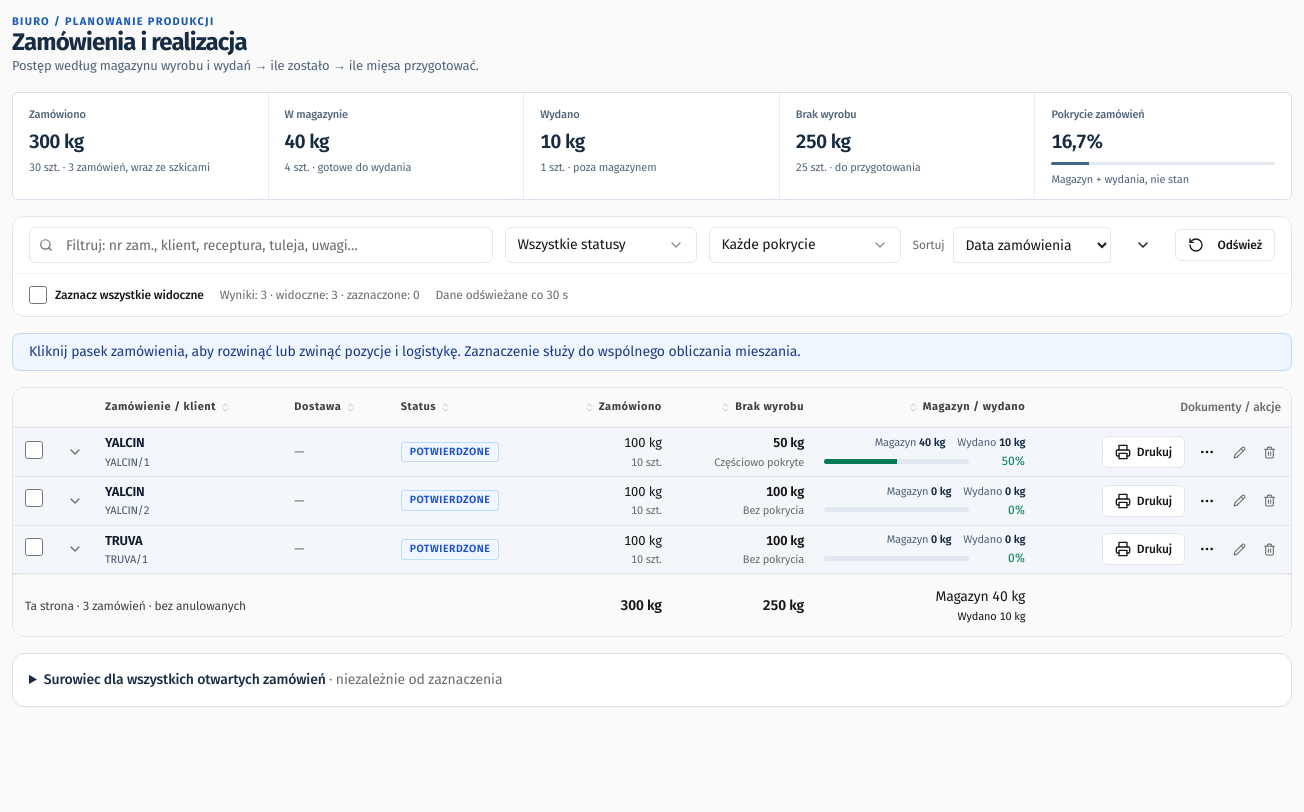
Test: ClientOrdersPage — zaznaczanie i planowanie › filtr i sortowanie nie gubią zaznaczeń; wszystkie widoczne nie usuwa ukrytych
The width and height of the screenshot is (1304, 812).
Click the checkbox named "Zaznacz YALCIN/1".
click(34, 450)  # box [25, 440, 43, 458]
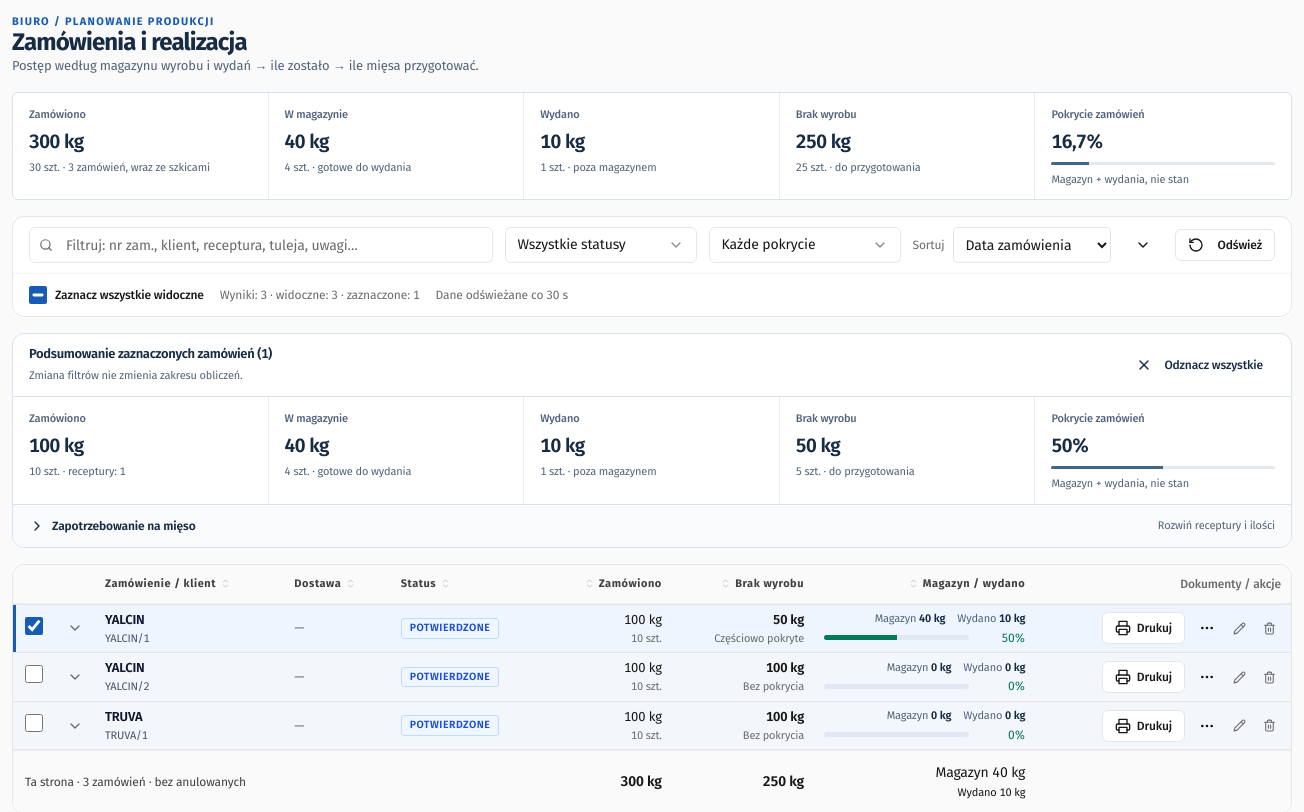
Type "TRUVA" into the field named "Szukaj zamówień".
click(261, 245); type("TRUVA")  # box [29, 227, 493, 263]
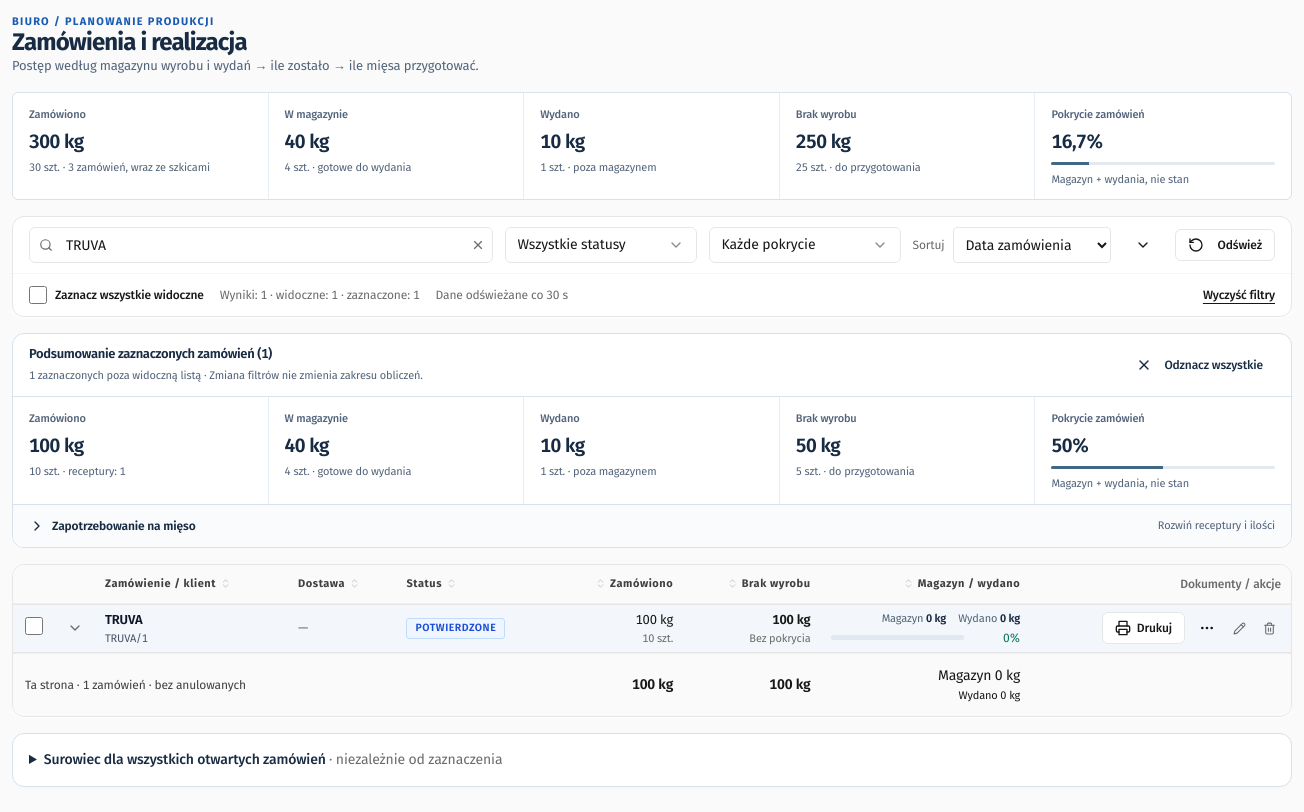
Now the element "Podsumowanie zaznaczonych zamówień" shows "1 zaznaczonych poza widoczną listą", box [29, 369, 209, 382]
Click the checkbox labelled "Zaznacz wszystkie widoczne".
click(38, 295)  # box [29, 286, 47, 304]
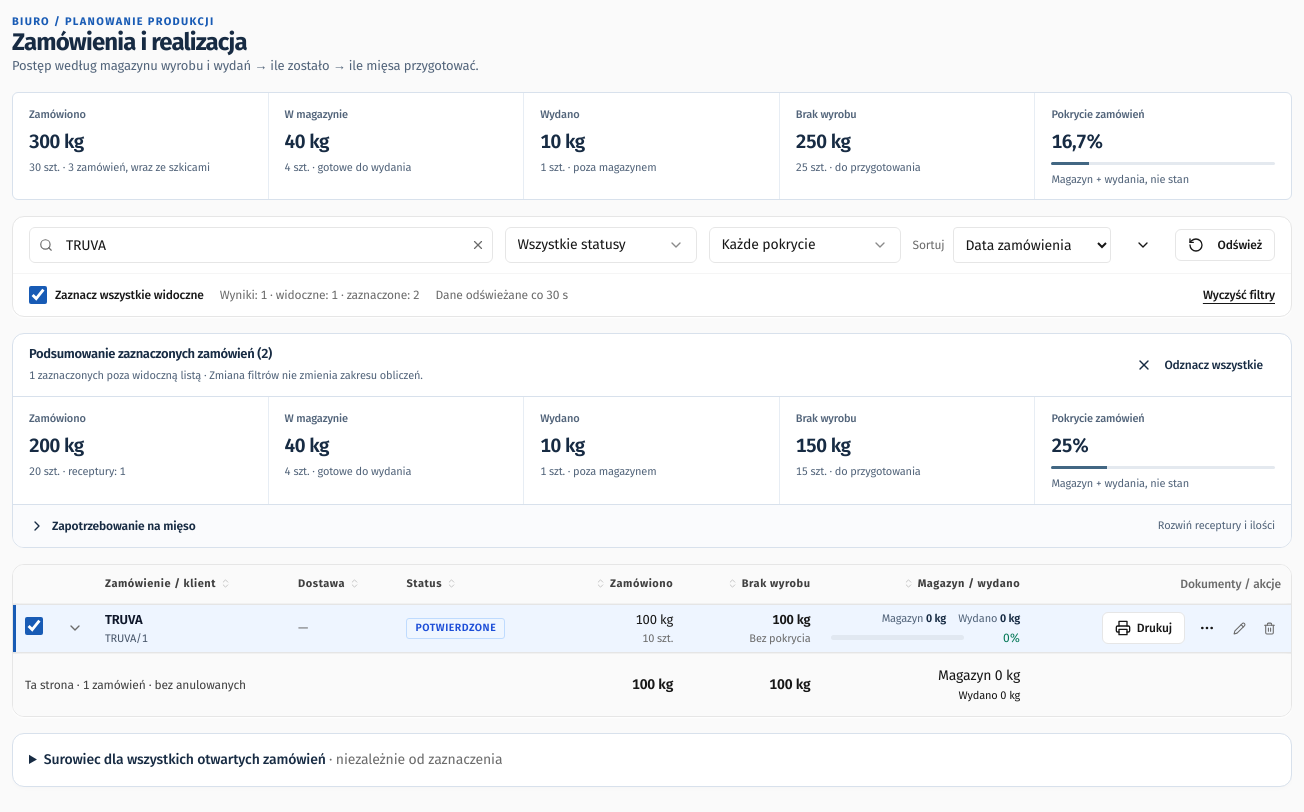
Now the element "Podsumowanie zaznaczonych zamówień" shows "(2)", box [12, 333, 1292, 548]
Select "Klient" in the dropdown named "Sortowanie zamówień" at (1032, 245), box [953, 227, 1111, 263]
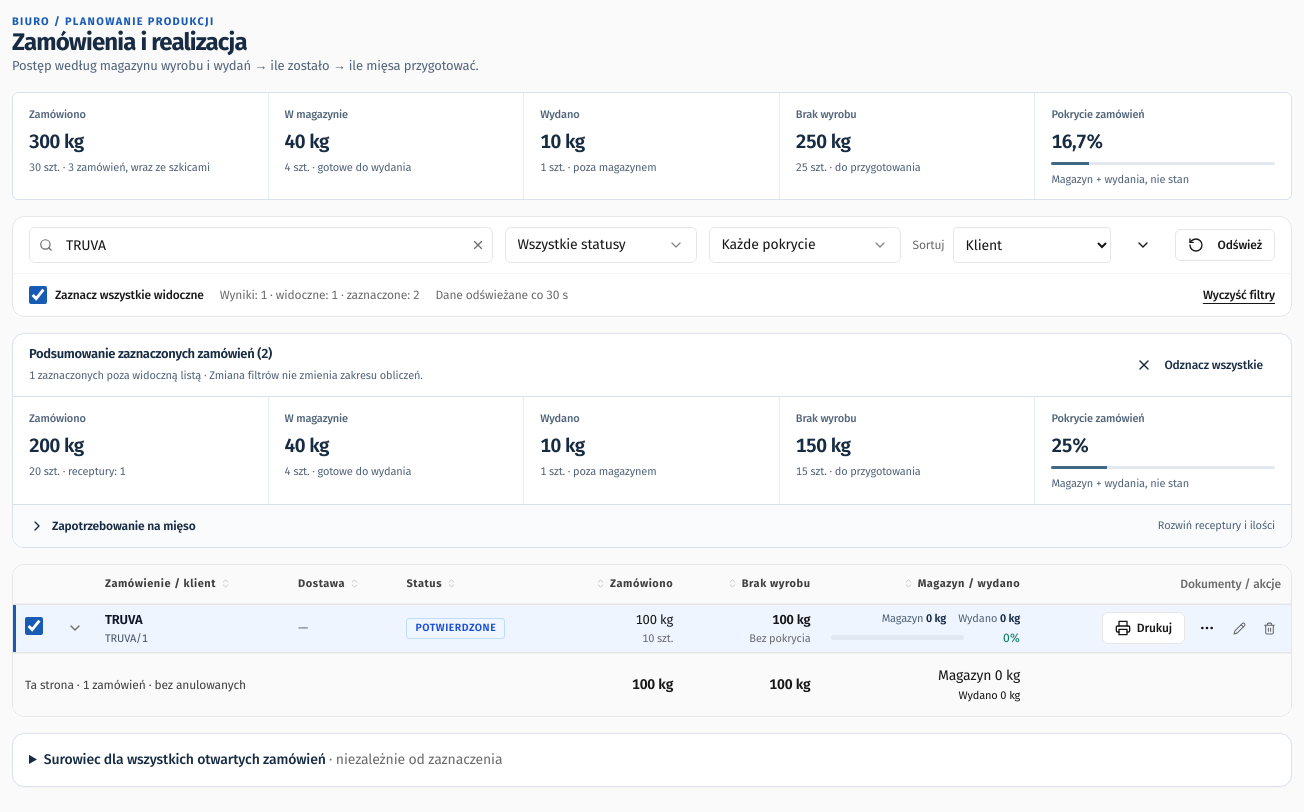
Click the button "Wyczyść filtry".
click(1239, 295)  # box [1203, 287, 1275, 303]
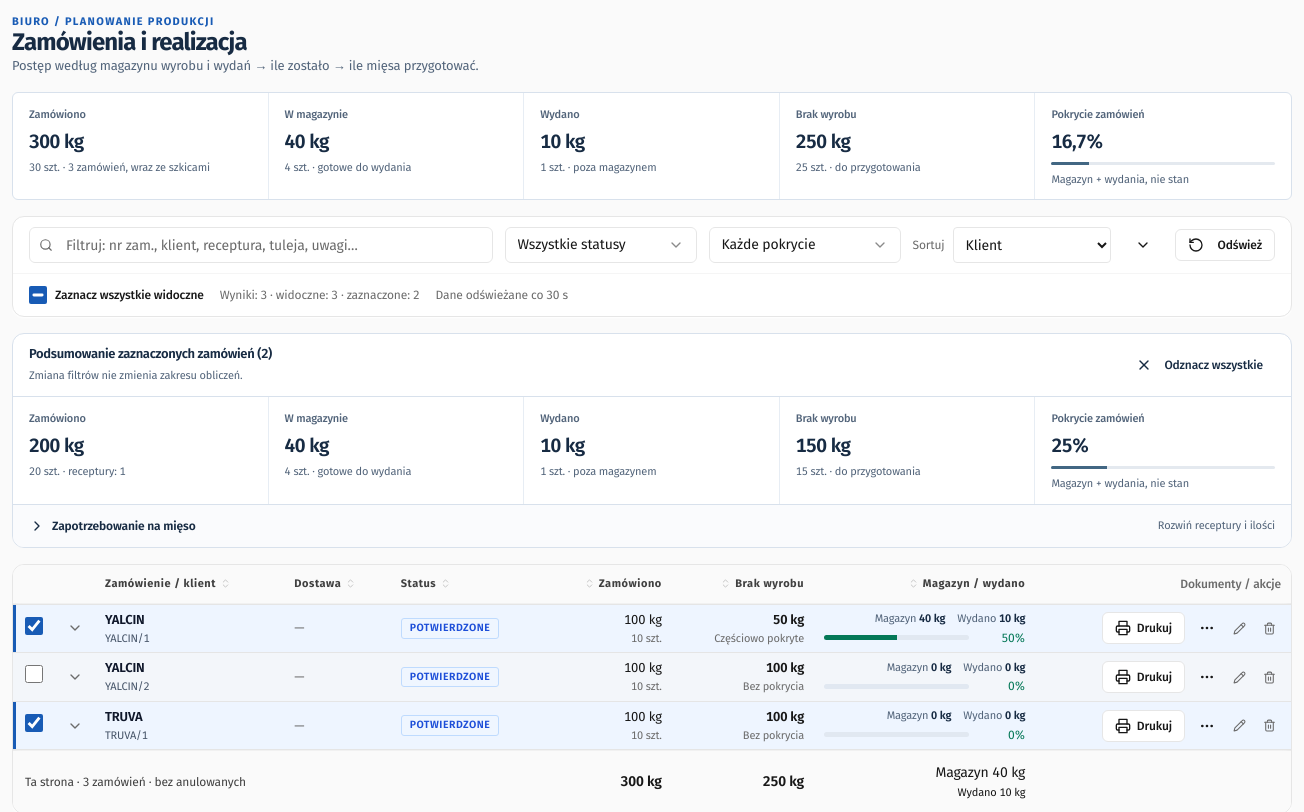
Expected: the checkbox named "Zaznacz YALCIN/1" is checked, [25, 617, 43, 635]
Now the checkbox named "Zaznacz TRUVA/1" is checked, box [25, 714, 43, 732]
Click the button "Odznacz wszystkie".
click(1200, 365)  # box [1124, 349, 1275, 381]
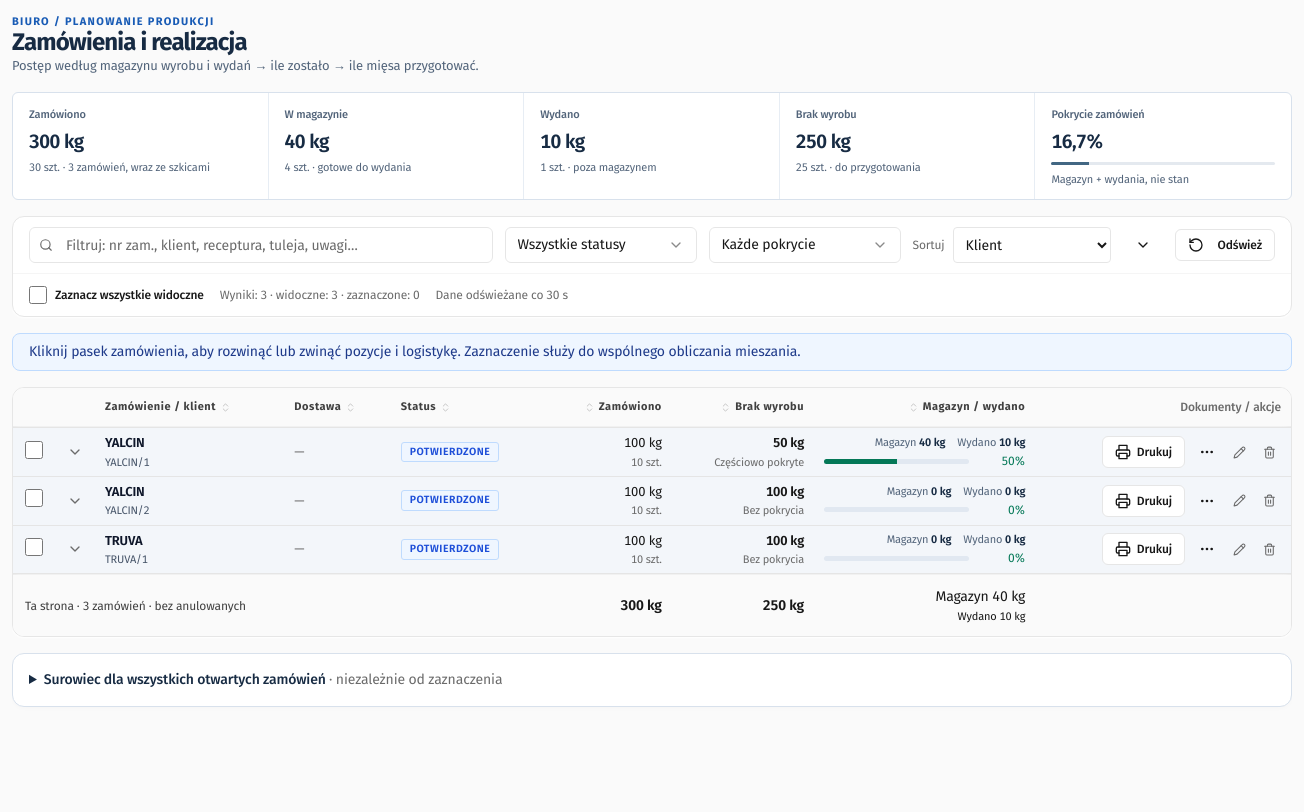
Now the heading "Podsumowanie zaznaczonych zamówień" is gone
